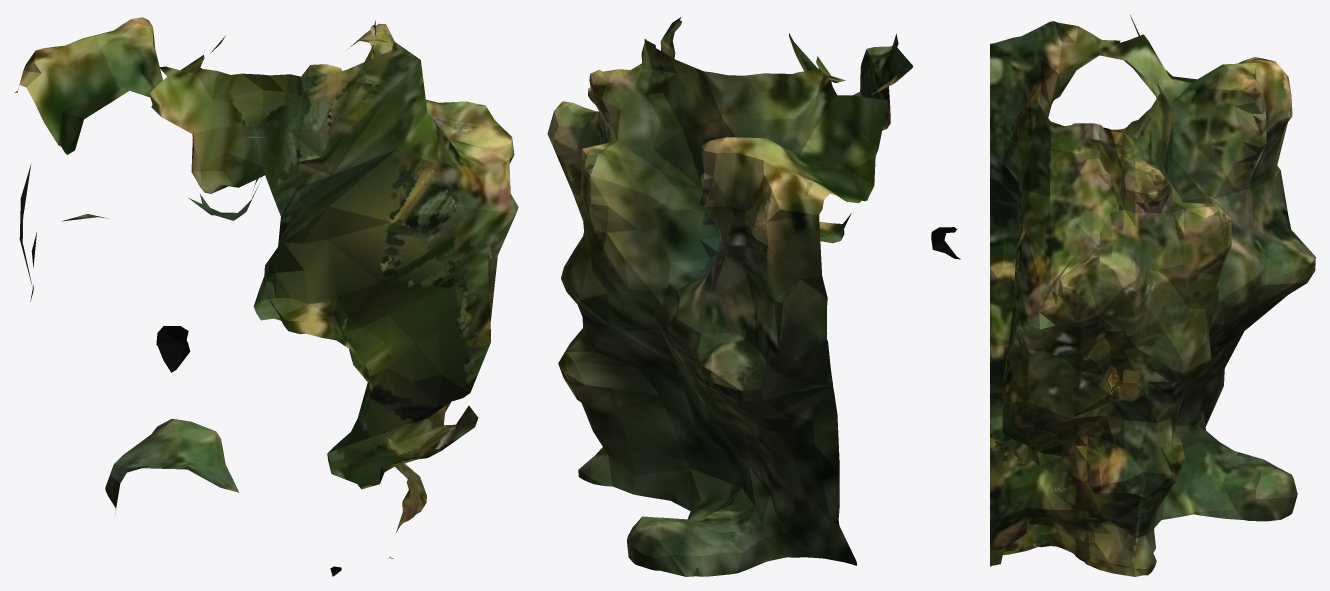
3 renders of one model, left to right at view 1: azimuth 30°, elevation 25°; view 2: azimuth 150°, elevation 25°; view 3: azimuth 270°, elevation 25°, orthographic. The views are drawn at different scales.
Size of the model in its own units: 0.6985 by 0.8374 by 0.5861.
Materials: 5 (5 with a texture image).
